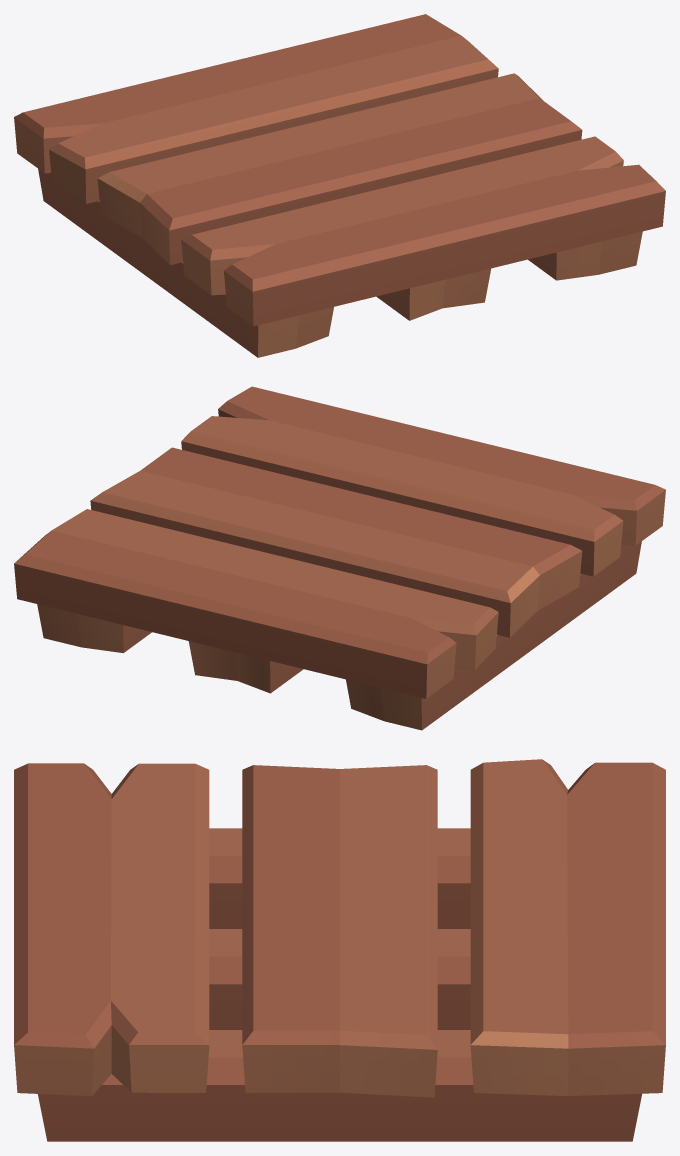
File: kk_pallet.glb
3 views of the same model, one above another, from view 1: azimuth 30°, elevation 25°; view 2: azimuth 150°, elevation 25°; view 3: azimuth 270°, elevation 25° (orthographic). The views are drawn at different scales.
Visible parts, largest first — view 1: Pallet_Wood; view 2: Pallet_Wood; view 3: Pallet_Wood.
Boxes of the visible parts, x1,y1,x2,y2 form: Pallet_Wood: (14, 14, 665, 357); Pallet_Wood: (14, 386, 665, 730); Pallet_Wood: (14, 759, 665, 1141).
Size of the model in its own units: 1.2 by 0.232 by 1.16.
Materials: 1 (1 with a texture image).
